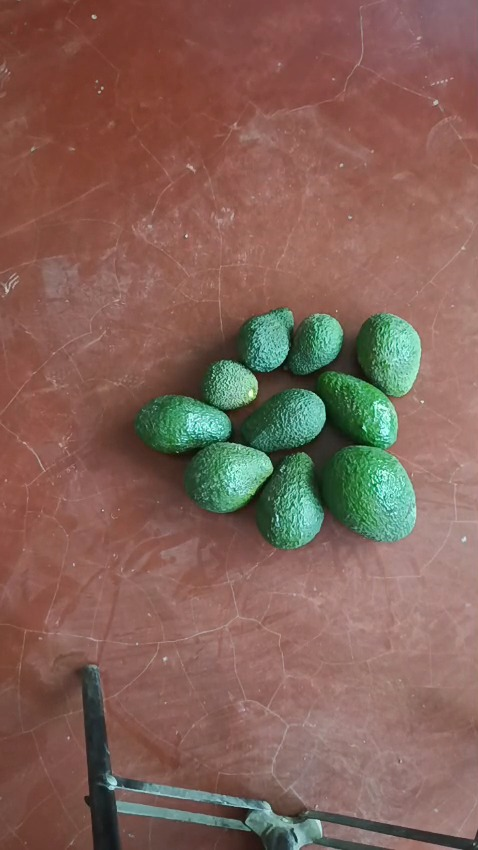Primera: (319, 443, 417, 540)
Segunda: (255, 452, 325, 547), (314, 371, 398, 448), (185, 441, 274, 513), (134, 395, 231, 454), (355, 312, 422, 395), (240, 389, 326, 453), (235, 307, 294, 373)
Tercera: (286, 312, 344, 376), (199, 357, 259, 412)
